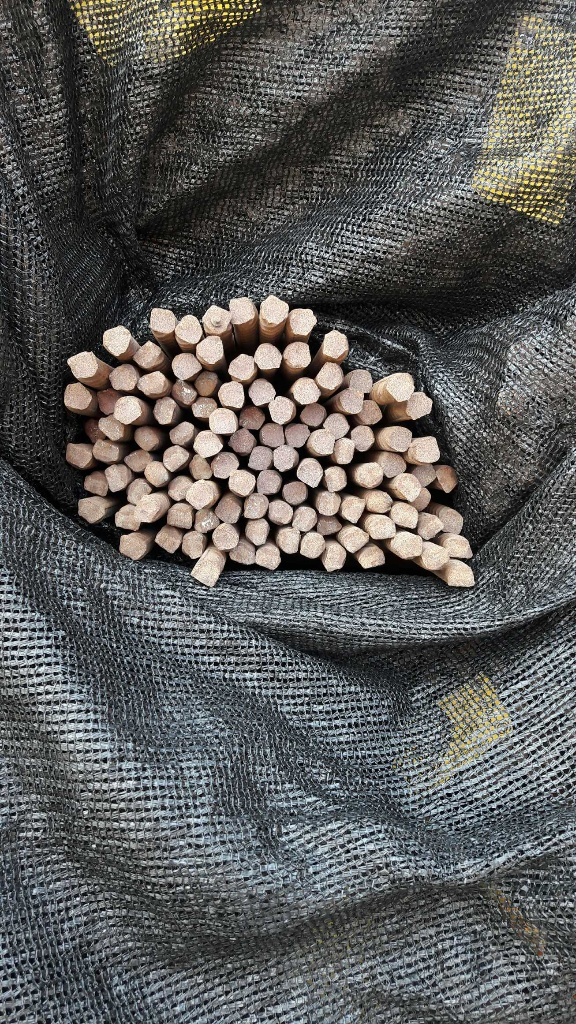dipstick: (185, 480, 214, 508), (386, 372, 414, 401), (103, 326, 130, 354), (202, 306, 230, 333), (109, 364, 137, 391), (64, 382, 92, 409), (355, 461, 383, 488), (378, 451, 406, 478), (227, 354, 256, 380), (172, 353, 201, 379), (114, 396, 140, 425), (66, 353, 97, 377), (260, 296, 287, 323), (248, 379, 275, 406), (269, 397, 296, 424), (135, 342, 163, 368), (288, 309, 316, 335), (253, 344, 281, 370), (292, 377, 320, 403), (139, 371, 168, 396), (78, 497, 107, 522), (229, 297, 255, 324), (154, 397, 180, 424), (407, 392, 433, 419), (414, 436, 440, 463), (176, 315, 201, 343), (240, 403, 265, 431), (118, 536, 146, 561), (193, 432, 222, 456), (83, 470, 109, 496), (229, 429, 255, 455), (212, 452, 238, 478), (212, 524, 238, 550), (297, 459, 323, 485), (284, 342, 311, 367), (197, 337, 224, 362), (97, 416, 124, 441), (395, 474, 420, 501), (390, 503, 417, 528), (191, 563, 219, 587), (394, 534, 422, 558), (124, 449, 153, 472), (323, 331, 348, 357), (65, 443, 91, 468), (163, 445, 188, 471), (114, 505, 140, 530), (155, 528, 181, 553), (245, 519, 270, 545), (300, 532, 325, 558), (210, 409, 237, 433), (341, 496, 365, 523), (418, 513, 442, 540), (367, 516, 395, 539), (443, 536, 471, 559), (150, 308, 175, 333), (273, 446, 298, 471), (324, 413, 349, 438), (169, 422, 195, 446), (105, 466, 129, 492), (144, 461, 168, 487), (166, 504, 192, 528), (318, 363, 342, 389), (365, 490, 391, 514), (411, 463, 437, 487), (439, 509, 463, 535), (128, 479, 151, 506), (341, 528, 368, 551), (194, 371, 218, 396), (172, 381, 197, 405), (219, 382, 243, 407), (215, 499, 239, 524), (244, 494, 269, 518), (322, 545, 346, 570), (293, 506, 316, 532), (423, 546, 449, 569), (447, 563, 473, 586), (437, 464, 457, 493), (257, 470, 281, 494), (97, 390, 120, 415), (230, 541, 255, 564), (300, 403, 325, 426), (341, 388, 364, 413), (387, 426, 410, 451), (255, 547, 281, 569), (324, 466, 346, 492), (134, 427, 158, 450), (194, 510, 218, 533), (168, 476, 191, 500), (230, 471, 254, 494), (248, 447, 272, 470), (260, 424, 284, 447), (286, 424, 309, 448), (310, 430, 333, 454), (316, 492, 340, 515), (351, 426, 373, 451), (181, 532, 202, 558), (268, 501, 292, 523), (359, 399, 381, 423), (192, 396, 217, 417), (278, 528, 299, 553), (333, 437, 353, 463), (136, 499, 159, 521), (350, 369, 372, 392), (283, 482, 306, 504), (93, 441, 119, 460), (189, 458, 212, 479), (360, 547, 384, 567), (317, 516, 342, 535)
